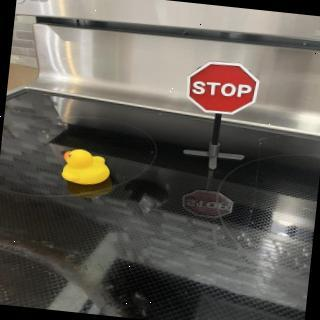duck_regular: (61, 147, 114, 189)
sign_stop: (184, 58, 262, 118)
